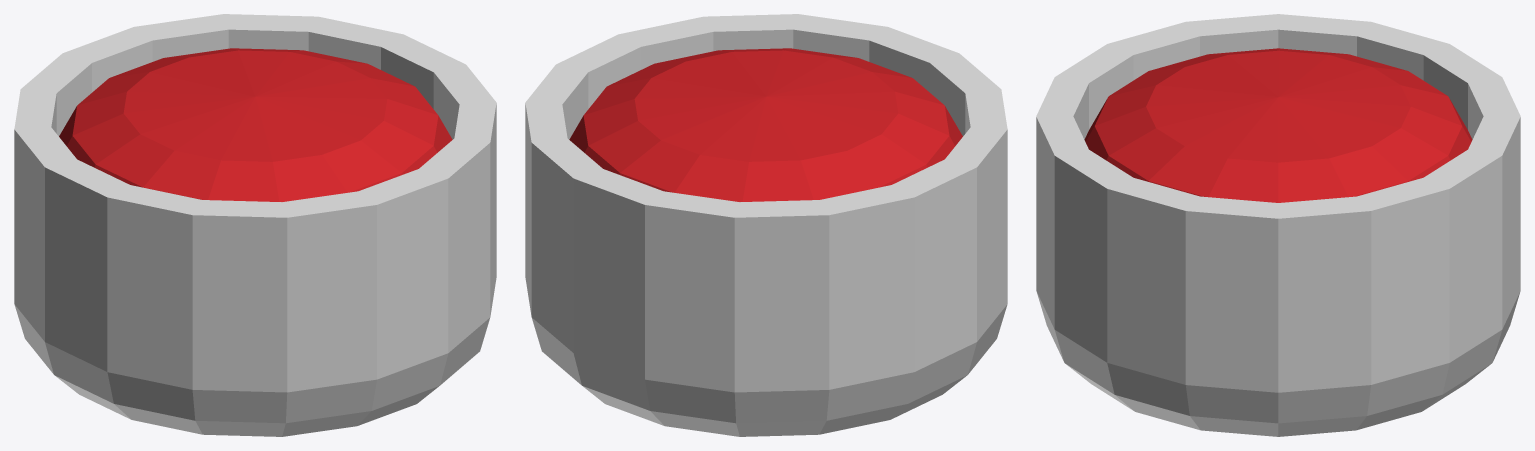
The model's file is Ketchup_sauce.fbx.
3 views of the same model, side by side, from view 1: azimuth 30°, elevation 25°; view 2: azimuth 150°, elevation 25°; view 3: azimuth 270°, elevation 25° (orthographic).
Parts seen in each view (by area): view 1: Ketchup_sauce; view 2: Ketchup_sauce; view 3: Ketchup_sauce.
Part boxes in pixels (bbox=[...]): Ketchup_sauce: bbox=[14, 14, 496, 436]; Ketchup_sauce: bbox=[525, 14, 1007, 436]; Ketchup_sauce: bbox=[1036, 14, 1520, 436].
Size of the model in its own units: 4.82 by 2.89 by 4.82.
